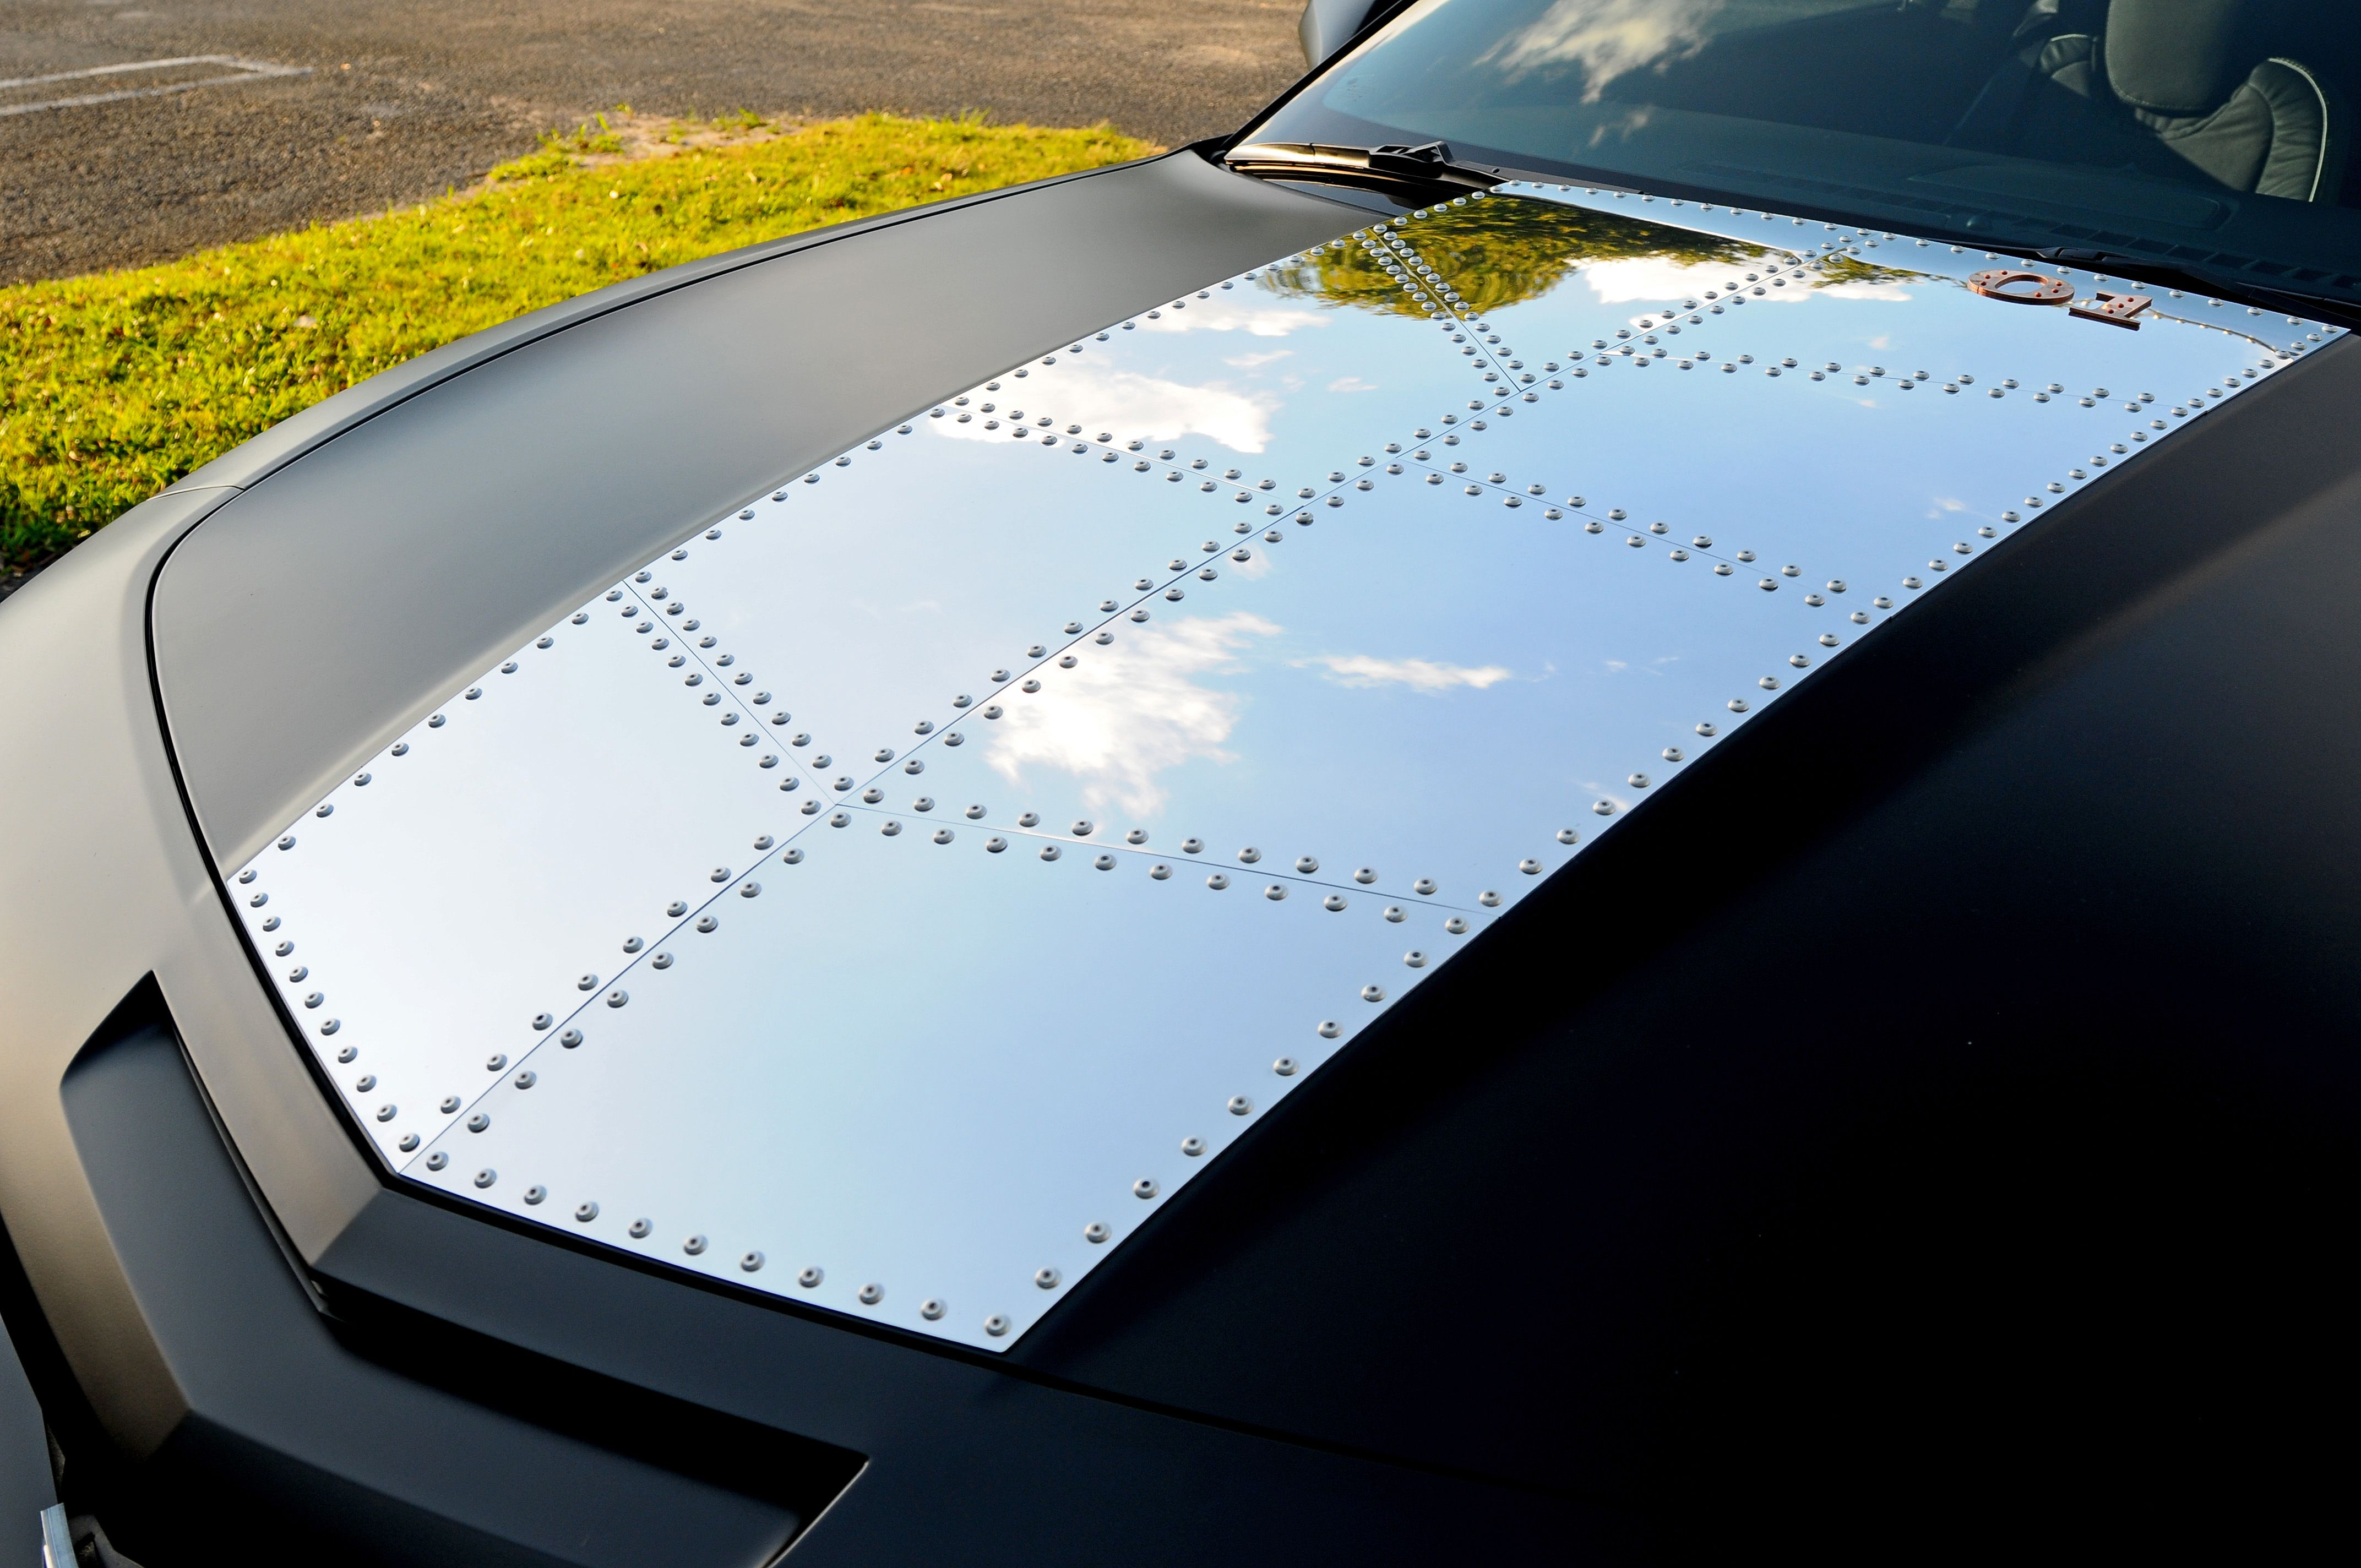rivet: (1180, 1132, 1209, 1157), (1131, 1176, 1160, 1200), (858, 1281, 887, 1305), (985, 1312, 1012, 1337), (683, 1232, 709, 1256), (1034, 1265, 1062, 1288), (921, 1297, 949, 1319), (798, 1265, 826, 1288), (1272, 1055, 1299, 1078), (1227, 1094, 1253, 1116), (628, 1216, 655, 1239), (1316, 1017, 1344, 1038), (740, 1249, 765, 1272), (576, 1200, 600, 1223), (560, 1027, 585, 1050), (1085, 1221, 1111, 1242), (1323, 892, 1349, 913), (1362, 982, 1386, 1003), (425, 1151, 450, 1172), (466, 1113, 490, 1134), (515, 1071, 539, 1092), (606, 989, 630, 1010), (621, 934, 646, 955), (1556, 824, 1580, 845), (1404, 948, 1428, 969), (1446, 915, 1470, 936), (1353, 864, 1377, 885), (1295, 854, 1320, 875), (1517, 856, 1544, 875), (1383, 905, 1409, 924), (1412, 877, 1439, 896), (474, 1167, 497, 1188), (397, 1132, 420, 1153), (1628, 770, 1652, 789), (1237, 845, 1262, 864), (1148, 861, 1173, 880), (782, 847, 807, 866), (1477, 889, 1503, 906), (1264, 884, 1290, 901), (525, 1185, 546, 1206), (439, 1095, 462, 1115), (485, 1053, 508, 1073), (578, 973, 600, 992), (651, 952, 674, 971), (697, 915, 719, 934), (740, 880, 763, 899), (1208, 871, 1230, 891), (1071, 819, 1094, 838), (880, 819, 903, 838), (753, 833, 775, 852), (1125, 828, 1150, 845), (1094, 854, 1118, 871), (1038, 845, 1062, 863), (1017, 810, 1041, 828), (275, 940, 296, 959), (320, 1017, 341, 1036), (338, 1045, 359, 1064), (532, 1011, 553, 1031), (1295, 509, 1316, 528), (667, 899, 690, 917), (1759, 674, 1782, 691), (1661, 745, 1684, 763), (1593, 798, 1615, 815), (1181, 836, 1204, 854), (985, 836, 1008, 854), (914, 719, 936, 737), (964, 803, 987, 821), (933, 828, 956, 845), (914, 796, 936, 814), (833, 775, 856, 793), (863, 787, 886, 805), (800, 798, 823, 815), (777, 775, 800, 793), (1694, 721, 1719, 737), (238, 868, 259, 885), (305, 990, 326, 1008), (357, 1074, 378, 1092), (376, 1104, 397, 1122), (711, 866, 732, 884), (1131, 607, 1152, 625), (943, 730, 964, 747), (791, 731, 812, 749), (812, 752, 833, 770), (1057, 654, 1080, 670), (1197, 567, 1220, 583), (1873, 595, 1895, 611), (1818, 632, 1841, 647), (1789, 653, 1811, 668), (830, 812, 852, 828), (427, 712, 446, 730), (278, 835, 298, 852), (263, 915, 282, 933), (289, 966, 308, 983), (464, 686, 485, 702), (389, 742, 410, 758), (2135, 390, 2156, 406), (1736, 548, 1757, 563), (984, 705, 1005, 721), (952, 693, 973, 709), (1022, 679, 1043, 695), (1027, 644, 1048, 660), (1230, 548, 1251, 563), (1468, 416, 1489, 432), (2067, 465, 2088, 481), (2000, 509, 2021, 525), (1850, 609, 1871, 625), (875, 747, 896, 763), (905, 759, 926, 775), (758, 754, 779, 770), (739, 733, 761, 747), (1727, 698, 1750, 712), (651, 586, 670, 602), (604, 588, 623, 604), (354, 772, 373, 787), (315, 803, 334, 819), (250, 892, 270, 908), (1827, 577, 1846, 593), (1096, 632, 1115, 647), (1166, 586, 1185, 602), (1234, 520, 1253, 535), (1265, 528, 1285, 544), (1325, 493, 1344, 509), (1386, 462, 1405, 478), (1356, 453, 1376, 469), (1384, 439, 1404, 455), (1495, 404, 1514, 420), (2130, 429, 2149, 444), (2046, 479, 2065, 495), (651, 637, 672, 651), (1804, 593, 1825, 607), (1782, 563, 1803, 577), (1759, 577, 1780, 591), (1713, 562, 1734, 576), (1626, 534, 1647, 548), (1544, 507, 1565, 521), (1526, 483, 1547, 497), (991, 668, 1012, 682), (1064, 621, 1085, 635), (1167, 558, 1188, 572), (1412, 448, 1433, 462), (2088, 453, 2109, 467), (1976, 525, 1997, 539), (1953, 541, 1974, 555), (1927, 558, 1948, 572), (1902, 576, 1923, 590), (1356, 478, 1374, 493), (665, 602, 684, 616), (716, 653, 735, 667), (721, 712, 740, 726), (669, 654, 688, 668), (620, 604, 639, 618), (501, 661, 520, 675), (2123, 401, 2142, 415), (1955, 373, 1974, 387), (1895, 378, 1915, 392), (1692, 534, 1712, 548), (1650, 521, 1670, 535), (1608, 507, 1628, 521), (1503, 495, 1523, 509), (1134, 577, 1153, 591), (1201, 539, 1220, 553), (1442, 432, 1461, 446), (2223, 374, 2242, 388), (2149, 418, 2168, 432), (733, 672, 754, 684), (772, 712, 793, 724), (702, 693, 723, 705), (635, 621, 656, 633), (1670, 549, 1691, 562), (1584, 521, 1605, 534), (1566, 495, 1587, 507), (1099, 600, 1120, 612), (2023, 495, 2044, 507), (1468, 397, 1484, 413), (835, 455, 852, 469), (572, 612, 590, 626), (537, 637, 555, 651), (2091, 385, 2109, 399), (2046, 381, 2063, 395), (2002, 376, 2020, 390), (1988, 387, 2006, 401), (1911, 369, 1929, 383), (1867, 364, 1885, 378), (1465, 483, 1482, 497), (1451, 460, 1468, 474), (1265, 502, 1283, 516), (1414, 427, 1432, 441), (1523, 390, 1540, 404), (1547, 378, 1565, 392), (1519, 371, 1537, 385), (1544, 360, 1561, 374), (1572, 366, 1589, 380), (1594, 355, 1612, 369), (1591, 338, 1608, 352), (2188, 395, 2205, 409), (1166, 472, 1185, 485), (739, 509, 758, 521), (704, 528, 723, 541), (684, 674, 704, 686), (2077, 397, 2097, 409), (2032, 392, 2051, 404), (1941, 383, 1960, 395), (1852, 374, 1871, 387), (1824, 360, 1843, 373), (1808, 371, 1827, 383), (1488, 472, 1507, 485), (1425, 472, 1444, 485), (1299, 486, 1318, 499), (2205, 387, 2224, 399), (2111, 443, 2130, 455), (866, 439, 882, 453), (1738, 352, 1754, 366), (1474, 322, 1491, 334), (1430, 311, 1447, 324), (1236, 492, 1253, 504), (1201, 481, 1218, 493), (1134, 460, 1152, 472), (1012, 427, 1029, 439), (803, 472, 821, 485), (635, 570, 653, 583), (683, 619, 700, 632), (700, 635, 718, 647), (754, 691, 772, 703), (1780, 355, 1797, 367), (1764, 366, 1782, 378), (1720, 362, 1738, 374), (1677, 359, 1694, 371), (1328, 471, 1346, 483), (1440, 413, 1458, 425), (1619, 345, 1636, 357), (1642, 334, 1659, 346), (1664, 324, 1682, 336), (1687, 313, 1705, 325), (1708, 304, 1726, 317), (1827, 252, 1845, 264), (2321, 322, 2338, 334), (2258, 357, 2275, 369), (2240, 367, 2258, 380), (2170, 406, 2188, 418), (1258, 479, 1278, 490), (1101, 453, 1120, 464), (1692, 350, 1712, 360), (1484, 371, 1500, 383), (1509, 359, 1524, 371), (1496, 346, 1512, 359), (1472, 359, 1488, 371), (1421, 301, 1437, 313), (1393, 215, 1409, 227), (1094, 331, 1110, 343), (772, 490, 788, 502), (1495, 385, 1510, 397), (1568, 350, 1584, 362), (1615, 327, 1631, 339), (1682, 299, 1698, 311), (1412, 210, 1430, 220), (1225, 469, 1243, 479), (1192, 458, 1209, 469), (1127, 441, 1145, 451), (1041, 436, 1059, 446), (1036, 416, 1054, 427), (896, 425, 914, 436), (672, 549, 690, 560), (1750, 287, 1768, 297), (1769, 278, 1787, 289), (1789, 269, 1806, 280), (2207, 297, 2224, 308), (2286, 317, 2303, 327), (2289, 339, 2307, 350), (2273, 348, 2291, 359), (1400, 247, 1414, 259), (1332, 238, 1346, 250), (1461, 346, 1477, 357), (1486, 334, 1502, 345), (1451, 334, 1467, 345), (1454, 303, 1470, 313), (1412, 292, 1428, 303), (1435, 283, 1451, 294), (1391, 240, 1407, 250), (1372, 224, 1388, 234), (1351, 231, 1367, 241), (1041, 355, 1057, 366), (1160, 450, 1176, 460), (1096, 432, 1111, 443), (1073, 444, 1089, 455), (1066, 425, 1082, 436), (985, 420, 1001, 430), (980, 404, 996, 415), (957, 413, 973, 423), (1635, 357, 1650, 367), (1661, 310, 1677, 320), (1731, 296, 1747, 306), (1724, 282, 1740, 292), (1745, 271, 1761, 282), (1846, 245, 1862, 255), (1864, 240, 1880, 250), (1915, 238, 1930, 248), (1950, 245, 1965, 255), (2093, 273, 2109, 283), (2168, 289, 2184, 299), (2247, 306, 2263, 317), (2305, 332, 2321, 343), (1650, 348, 1668, 357), (1822, 222, 1839, 231), (2020, 259, 2037, 268), (1454, 196, 1467, 208), (1465, 311, 1479, 322), (1442, 322, 1456, 332), (1446, 292, 1460, 303), (1426, 273, 1440, 283), (1404, 282, 1418, 292), (1418, 264, 1432, 275), (1386, 264, 1400, 275), (1761, 212, 1775, 222), (1531, 180, 1545, 191), (1472, 191, 1486, 201), (1433, 203, 1447, 213), (1311, 247, 1325, 257), (1288, 254, 1302, 264), (1171, 299, 1185, 310), (1146, 310, 1160, 320), (1122, 320, 1136, 331), (985, 381, 999, 392), (931, 408, 945, 418), (1638, 318, 1652, 329), (1705, 290, 1719, 301), (1764, 264, 1778, 275), (1810, 261, 1824, 271), (1783, 255, 1797, 266), (1393, 275, 1409, 283), (1377, 257, 1393, 266), (1729, 208, 1745, 217), (1670, 199, 1685, 208), (1612, 191, 1628, 199), (1584, 187, 1600, 196), (1507, 178, 1523, 187), (1195, 290, 1211, 299), (1013, 369, 1029, 378), (1008, 411, 1024, 420), (954, 397, 970, 406), (1820, 241, 1836, 250), (1857, 227, 1873, 236), (1881, 233, 1897, 241), (1985, 252, 2000, 261), (2056, 266, 2072, 275), (2130, 282, 2146, 290), (1267, 262, 1279, 273), (1244, 271, 1257, 282), (1804, 248, 1817, 259), (1409, 257, 1423, 266), (1370, 248, 1384, 257), (1792, 217, 1806, 226), (1699, 203, 1713, 212), (1642, 194, 1656, 203), (1558, 184, 1572, 192), (1220, 282, 1234, 290), (1069, 345, 1083, 353), (1384, 231, 1397, 240), (1363, 240, 1376, 248), (1839, 236, 1853, 243), (1491, 185, 1503, 192)
